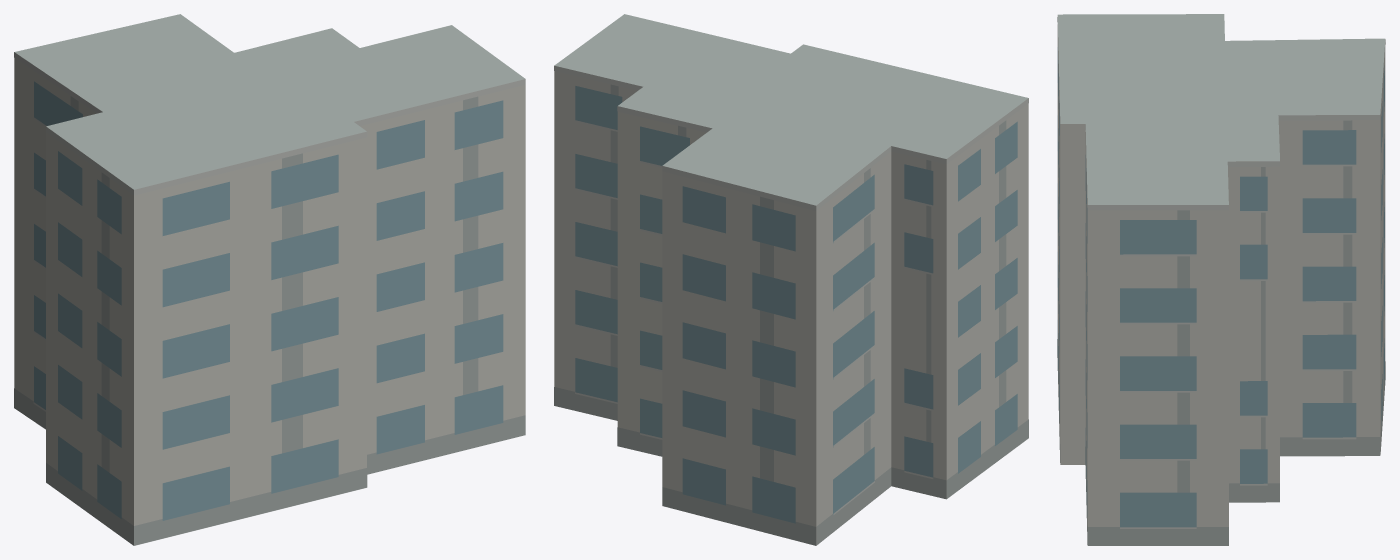
Rendered from survey-upis-32527413.glb.
3 views of the same model, side by side, from view 1: azimuth 30°, elevation 25°; view 2: azimuth 150°, elevation 25°; view 3: azimuth 270°, elevation 25° (orthographic). The views are drawn at different scales.
Visible parts, largest first — view 1: survey-upis-32527413.tmp; view 2: survey-upis-32527413.tmp; view 3: survey-upis-32527413.tmp.
Part boxes in pixels (x1,y1,x2,y2): survey-upis-32527413.tmp: (14, 14, 525, 545); survey-upis-32527413.tmp: (554, 14, 1028, 545); survey-upis-32527413.tmp: (1057, 14, 1385, 545).
Size of the model in its own units: 18.32 by 15.25 by 13.3.
